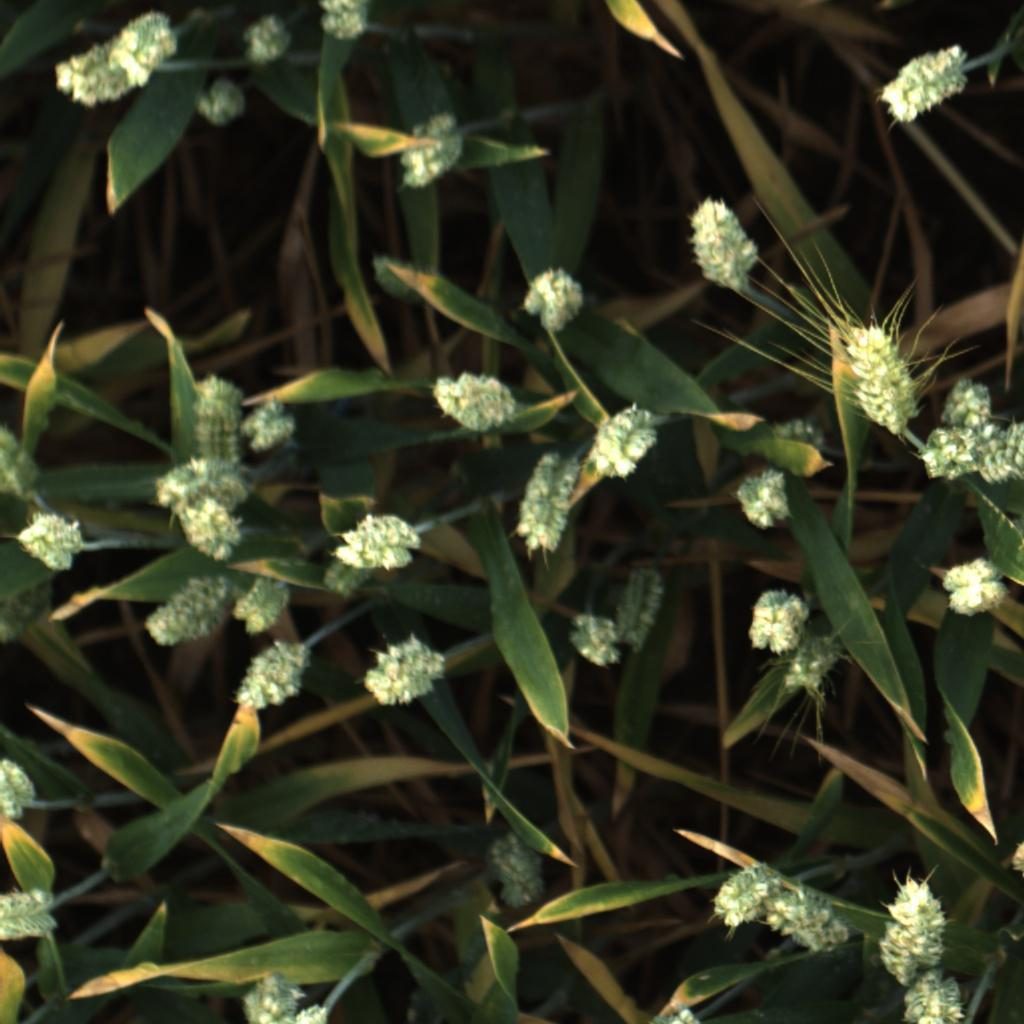0-0: (835, 311, 920, 444), (879, 38, 967, 129), (511, 449, 582, 555), (878, 872, 951, 972), (331, 506, 432, 578), (684, 195, 757, 290), (225, 641, 316, 715), (362, 632, 444, 713), (146, 573, 227, 653), (112, 6, 186, 89), (154, 446, 253, 507), (428, 367, 517, 434), (586, 398, 659, 479), (14, 501, 89, 575), (519, 260, 589, 337), (172, 498, 250, 566), (609, 563, 668, 652), (768, 885, 846, 952), (706, 854, 774, 930), (485, 833, 550, 911), (49, 42, 125, 108), (400, 112, 460, 195), (939, 553, 1013, 619), (742, 585, 809, 657), (730, 414, 827, 463), (235, 978, 337, 1024), (914, 418, 983, 486), (228, 572, 295, 638), (194, 374, 246, 459), (365, 246, 437, 305), (559, 608, 625, 672), (733, 463, 791, 533), (189, 73, 250, 134), (779, 640, 840, 701), (935, 374, 1008, 423), (0, 879, 52, 947), (315, 555, 381, 608), (971, 419, 1024, 485), (241, 391, 293, 457), (236, 8, 291, 69), (905, 973, 966, 1024), (315, 0, 378, 44), (2, 753, 39, 817), (645, 1003, 700, 1024), (1006, 839, 1024, 879)
